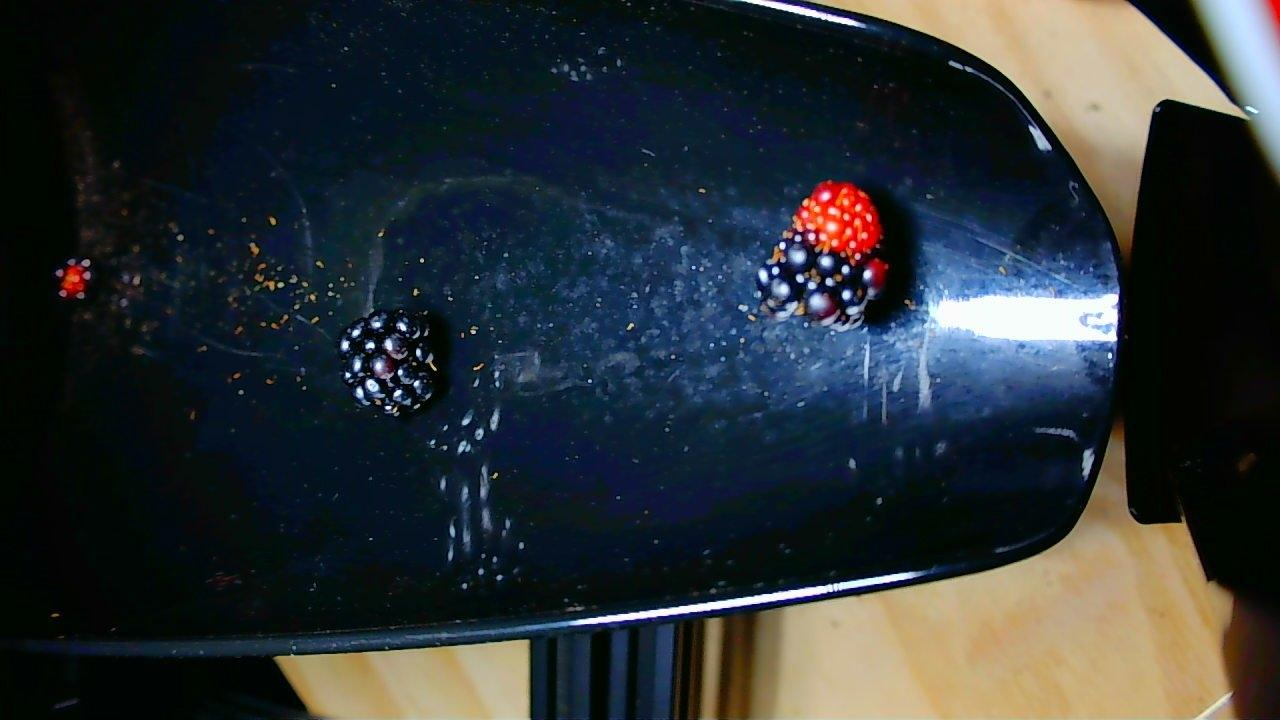berry: (768, 180, 888, 322), (338, 300, 443, 414), (51, 256, 93, 299)
